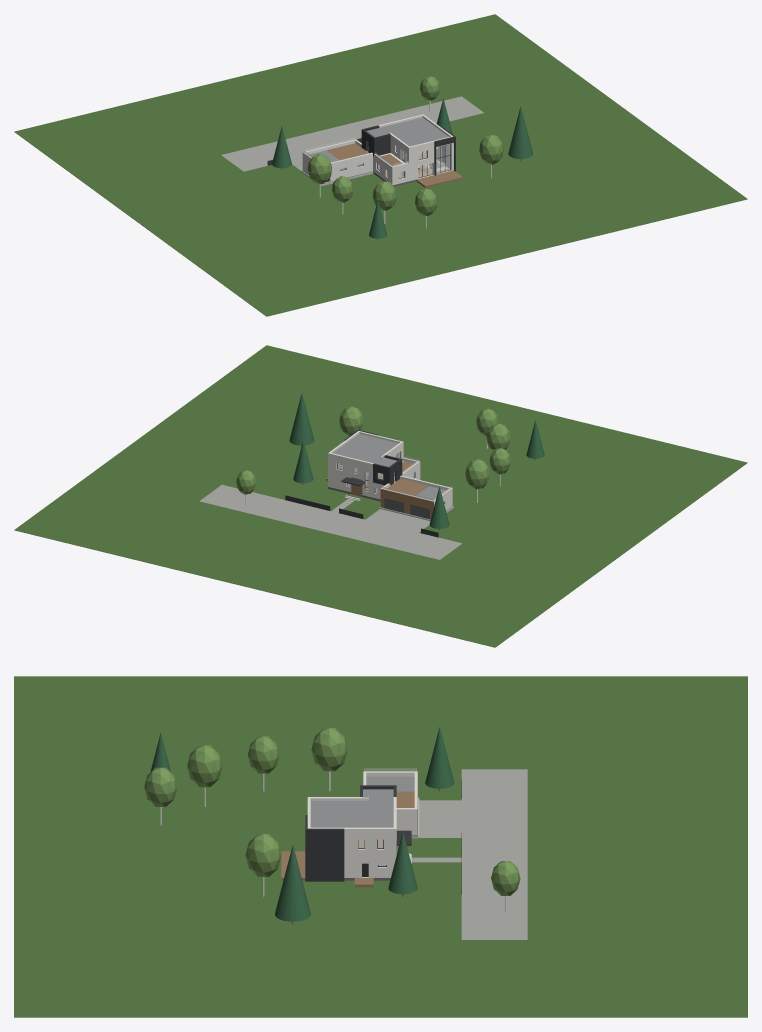
File: house_model.glb
The picture shows the model from 3 angles, top to bottom: view 1: azimuth 30°, elevation 25°; view 2: azimuth 150°, elevation 25°; view 3: azimuth 270°, elevation 25°; orthographic projection. The views are drawn at different scales.
Visible parts, largest first — view 1: ground, street, Cone.001, roof, Icosphere.004, Icosphere.003, roof.001, Icosphere.001, drive; view 2: ground, street, drive, Cone.001, roof, gar_wood, Icosphere.004, Icosphere.003, Icosphere.001, roof.001; view 3: ground, street, drive, portal.003, Cone.001, roof, Icosphere.004, Icosphere.003, Icosphere.001, roof.001, Icosphere.002, Cone.002 (+4 smaller).
Part boxes in pixels (x1=…): ground: x1=14, y1=14, x2=747, y2=316; street: x1=221, y1=96, x2=483, y2=171; Cone.001: x1=508, y1=106, x2=532, y2=158; roof: x1=394, y1=125, x2=448, y2=146; Icosphere.004: x1=307, y1=153, x2=331, y2=184; Icosphere.003: x1=479, y1=134, x2=503, y2=164; roof.001: x1=366, y1=117, x2=432, y2=137; Icosphere.001: x1=373, y1=181, x2=396, y2=210; drive: x1=288, y1=139, x2=334, y2=170; ground: x1=14, y1=345, x2=747, y2=647; street: x1=199, y1=484, x2=462, y2=559; drive: x1=353, y1=509, x2=430, y2=541; Cone.001: x1=289, y1=393, x2=314, y2=445; roof: x1=342, y1=434, x2=398, y2=456; gar_wood: x1=380, y1=489, x2=433, y2=519; Icosphere.004: x1=465, y1=459, x2=489, y2=489; Icosphere.003: x1=339, y1=406, x2=363, y2=435; Icosphere.001: x1=486, y1=423, x2=510, y2=451; roof.001: x1=333, y1=447, x2=396, y2=466; ground: x1=14, y1=676, x2=747, y2=1017; street: x1=461, y1=769, x2=527, y2=939; drive: x1=419, y1=800, x2=498, y2=837; portal.003: x1=305, y1=828, x2=344, y2=881; Cone.001: x1=275, y1=845, x2=310, y2=921; roof: x1=310, y1=801, x2=362, y2=827; Icosphere.004: x1=311, y1=728, x2=347, y2=771; Icosphere.003: x1=245, y1=834, x2=281, y2=876; Icosphere.001: x1=187, y1=745, x2=222, y2=787; roof.001: x1=363, y1=789, x2=393, y2=827; Icosphere.002: x1=144, y1=767, x2=177, y2=806; Cone.002: x1=388, y1=832, x2=417, y2=894.
Size of the model in its own units: 110 by 12.19 by 100.
